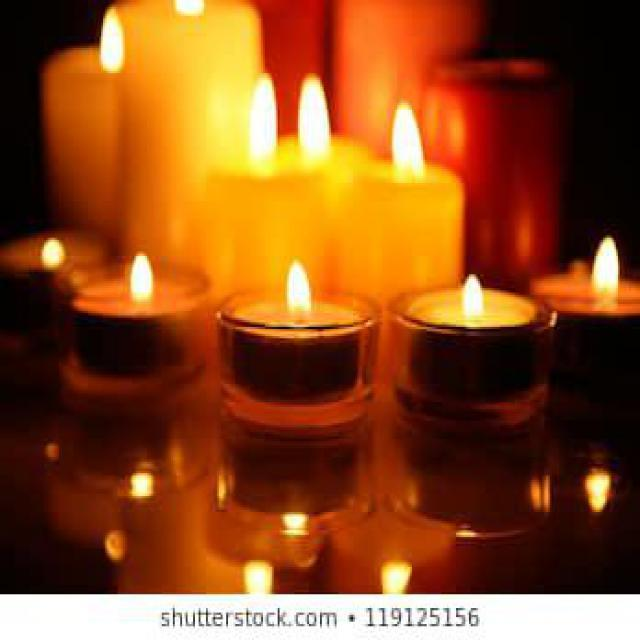Fire: (298, 78, 331, 167), (590, 236, 620, 300), (287, 262, 311, 316), (130, 251, 154, 302)
